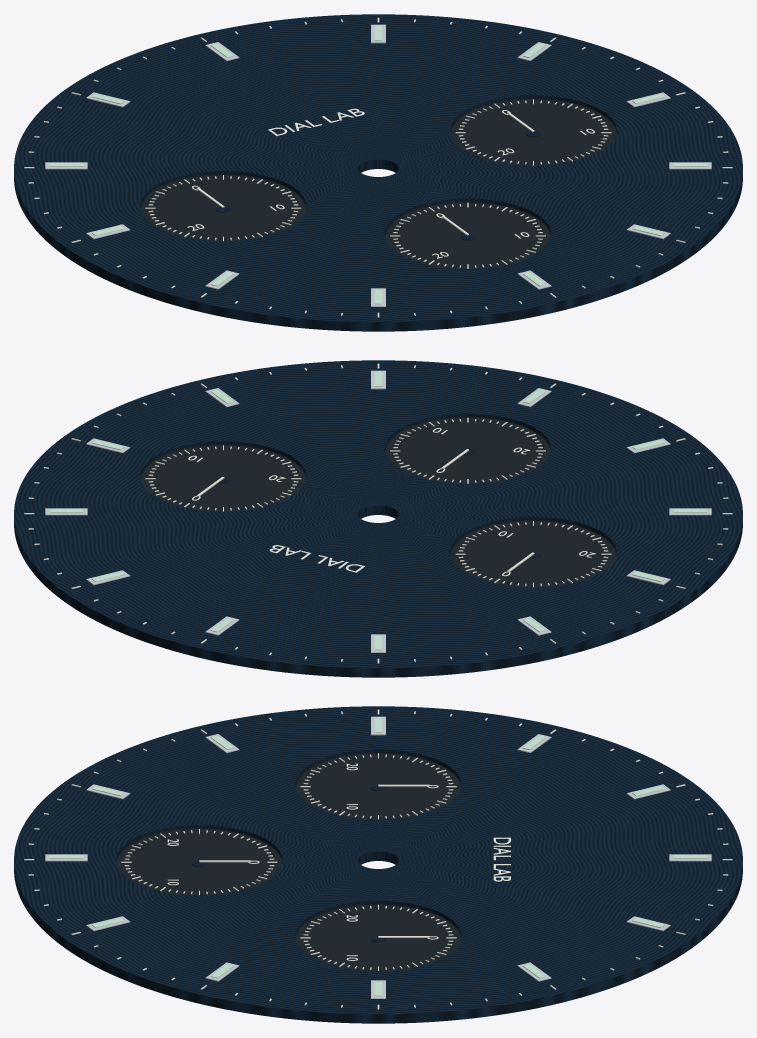
The model's file is dial-chrono-guilloche.glb.
The picture shows the model from 3 angles, top to bottom: view 1: azimuth 30°, elevation 25°; view 2: azimuth 150°, elevation 25°; view 3: azimuth 270°, elevation 25°; orthographic projection.
Parts seen in each view (by area): view 1: DIAL_WITH_CENTRE_BORE, recessed-register.001, recessed-register.002, recessed-register; view 2: DIAL_WITH_CENTRE_BORE, recessed-register.001, recessed-register.002, recessed-register; view 3: DIAL_WITH_CENTRE_BORE, recessed-register.002, recessed-register, recessed-register.001.
Part boxes in pixels (x1,y1,x2,y2): DIAL_WITH_CENTRE_BORE: (14,14,742,331); recessed-register.001: (451,98,615,165); recessed-register.002: (385,201,550,268); recessed-register: (141,174,305,241); DIAL_WITH_CENTRE_BORE: (14,360,742,677); recessed-register.001: (141,444,305,511); recessed-register.002: (385,416,550,483); recessed-register: (451,520,615,587); DIAL_WITH_CENTRE_BORE: (14,706,742,1023); recessed-register.002: (117,828,281,895); recessed-register: (296,752,460,819); recessed-register.001: (296,903,460,970).
Bounding box in the file's own units: 28.5 × 0.5575 × 28.5.
5 materials, 1 textured.
